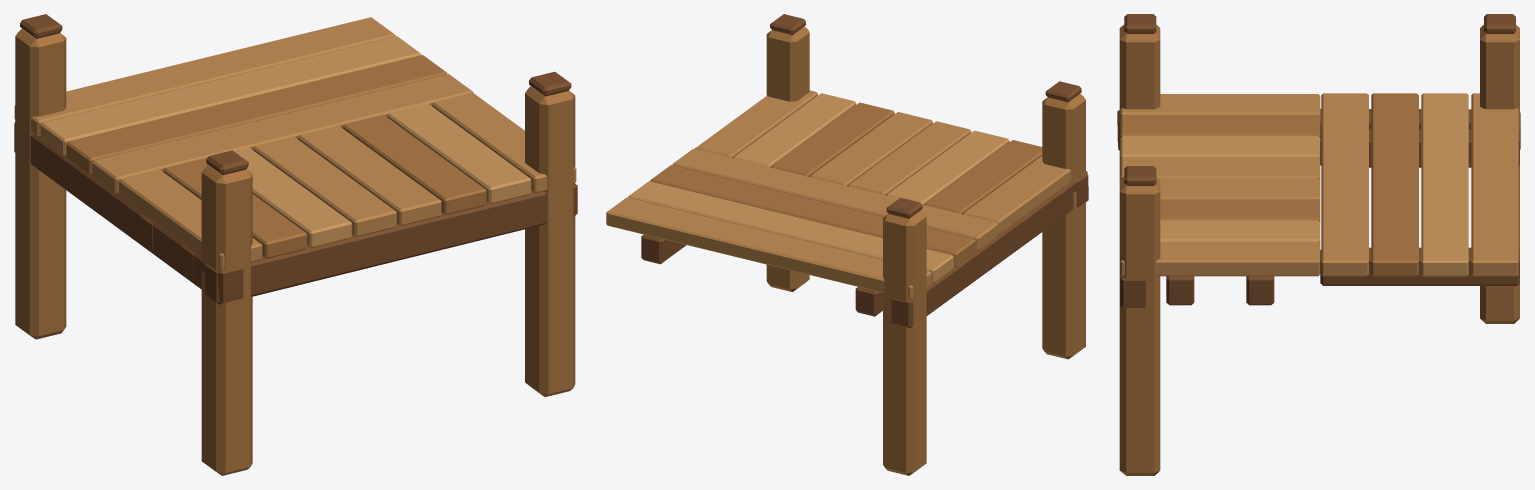
The model's file is dock_corner.glb.
3 renders of one model, left to right at view 1: azimuth 30°, elevation 25°; view 2: azimuth 150°, elevation 25°; view 3: azimuth 270°, elevation 25°, orthographic. The views are drawn at different scales.
Parts seen in each view (by area): view 1: dock_corner; view 2: dock_corner; view 3: dock_corner.
Boxes of the visible parts, bbox=[...] form: dock_corner: bbox=[14, 14, 577, 475]; dock_corner: bbox=[606, 14, 1088, 475]; dock_corner: bbox=[1117, 14, 1520, 475].
Size of the model in its own units: 2.02 by 1.65 by 2.02.
